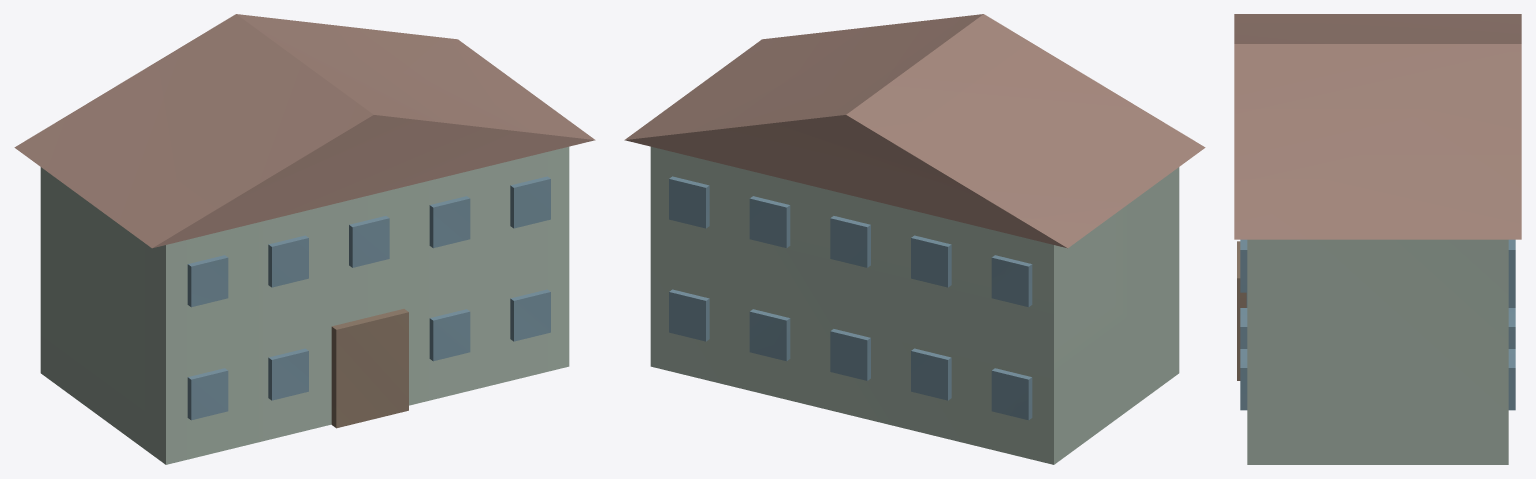
The model's file is greenhouse-05.glb.
3 renders of one model, left to right at view 1: azimuth 30°, elevation 25°; view 2: azimuth 150°, elevation 25°; view 3: azimuth 270°, elevation 25°, orthographic. The views are drawn at different scales.
Visible parts, largest first — view 1: world; view 2: world; view 3: world.
Boxes of the visible parts, x1,y1,x2,y2 form: world: (14,14,595,464); world: (624,14,1205,464); world: (1234,14,1521,464).
Size of the model in its own units: 1.89 by 1.24 by 1.01.
